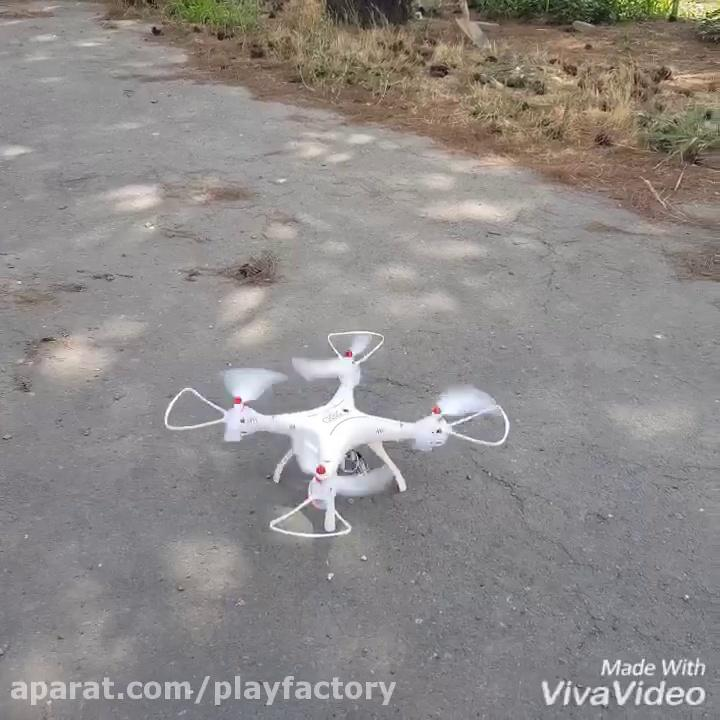drone: (160, 324, 514, 545)
